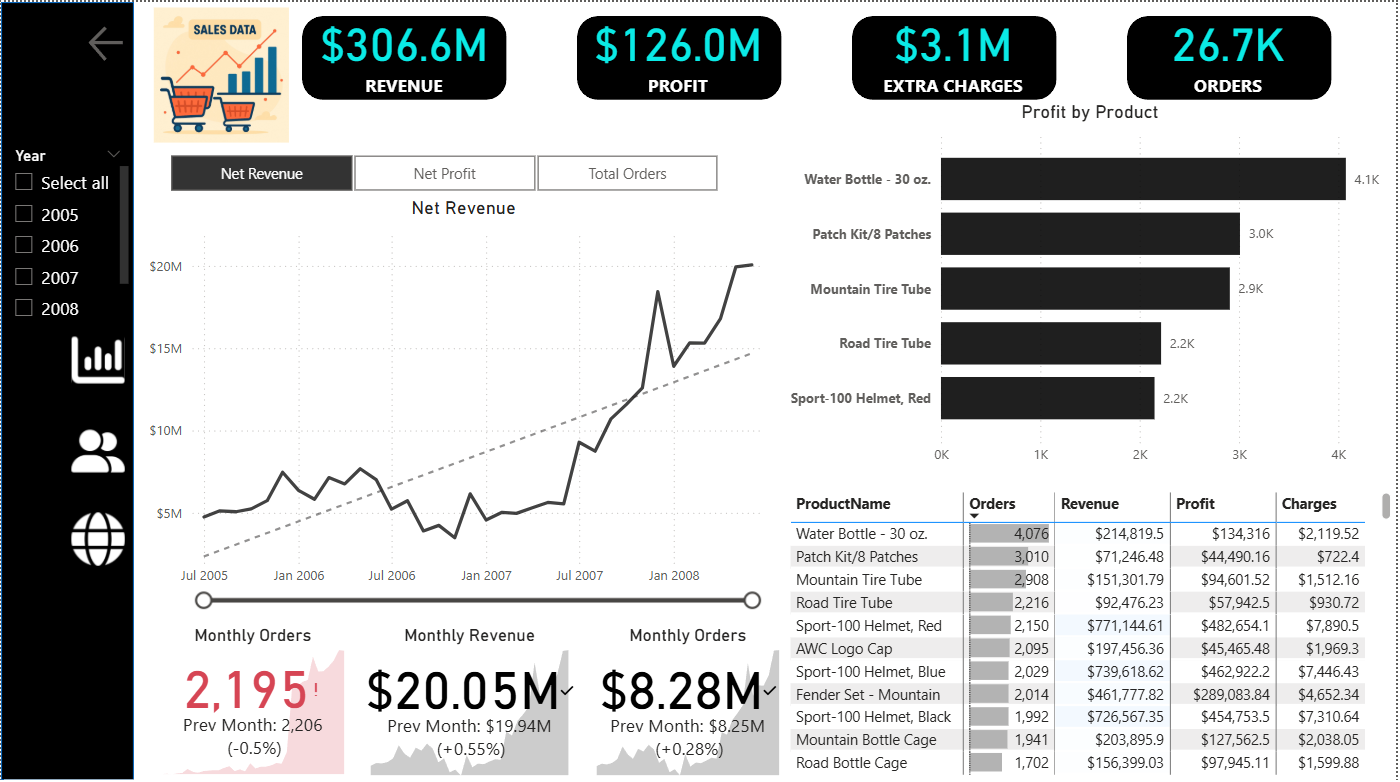

Layout of this report page (visuals, bound fields, positions):
{"tool":"powerbi","page":{"name":"DashBoard","canvas":[1280,720],"ordinal":0},"visuals":[{"type":"lineChart","fields":{"Y":["Measure.Net Revenue"],"Category":["Calender Lookup.Date hierarchy.Start of Year","Calender Lookup.Date hierarchy.Start of Month","Calender Lookup.Date hierarchy.Start of Week","Calender Lookup.Date hierarchy.FullDate"]},"box":[130,179.3,588.3,381.4],"z":0},{"type":"clusteredBarChart","title":"Profit by Product","fields":{"Category":["Product.EnglishProductName"],"Y":["Measure.Total Orders"]},"box":[718.3,91.1,561.7,342.5],"z":1000},{"type":"actionButton","box":[60.3,300.3,60.3,57],"z":2000,"group":"g1"},{"type":"shape","box":[781,12.7,188.5,77.3],"z":2000},{"type":"shape","box":[1033.3,12.7,188.5,77.3],"z":3000},{"type":"actionButton","box":[60.3,464.7,60.3,57],"z":3000,"group":"g1"},{"type":"shape","box":[528.7,12.7,188.5,77.3],"z":4000},{"type":"actionButton","box":[60.3,383.6,60.3,57],"z":4000,"group":"g1"},{"type":"shape","box":[276.3,12.7,188.5,77.3],"z":5000},{"type":"card","fields":{"Values":["Measure.Net Revenue"]},"box":[273.2,0,192.7,90],"z":6000},{"type":"card","fields":{"Values":["Measure.Net Profit"]},"box":[525.1,0,192.7,90],"z":7000},{"type":"card","fields":{"Values":["Measure.Total Orders"]},"box":[1029.1,0,192.7,90],"z":8000},{"type":"card","fields":{"Values":["Measure.Additional Charges"]},"box":[777.1,0,192.7,90],"z":9000},{"type":"kpi","title":"Monthly Orders","fields":{"TrendLine":["Calender Lookup.Start of Month"],"Indicator":["Measure.Total Orders"],"Goal":["Measure.Previous Month Orders"]},"box":[142,571.2,177.7,142],"z":10000},{"type":"tableEx","fields":{"Values":["Product.EnglishProductName","Measure.Total Orders","Measure.Net Revenue","Measure.Net Profit","Measure.Additional Charges"]},"box":[718.3,445,561.7,269.5],"z":11000},{"type":"shape","box":[0,0,122.5,714.2],"z":12000},{"type":"kpi","title":"Monthly Revenue","fields":{"TrendLine":["Calender Lookup.Start of Month"],"Indicator":["Measure.Net Revenue"],"Goal":["Measure.Previous Month Revenue"]},"box":[334.4,571.2,191.8,143.1],"z":13000},{"type":"kpi","title":"Monthly Orders","fields":{"TrendLine":["Calender Lookup.Start of Month"],"Indicator":["Measure.Net Profit"],"Goal":["Measure.Previous Month Net Profit"]},"box":[540.8,571.2,177.7,143.1],"z":14000},{"type":"slicer","fields":{"Values":["Parameter 2.Parameter"]},"box":[130,133.8,551.3,45.5],"z":15000},{"type":"image","box":[109.1,0,186.9,133.8],"z":16000},{"type":"actionButton","box":[76.2,17.2,46.2,41.7],"z":17000},{"type":"slicer","fields":{"Values":["Calender Lookup.Year"]},"box":[0,127.1,122.4,176.5],"z":18000},{"type":"group","id":"g1","title":"Nav","box":[60.3,300.3,60.3,221.4],"z":19000}]}

Visuals, with their boxes on the page's 1280x720 design canvas (x1, y1, x2, y2). These are canvas units, not pixel positions in the 1400x782 screenshot, which may show the page scaled, cropped or inside an application window:
lineChart - Measure.Net Revenue x Calender Lookup.Date hierarchy.Start of Year: BBox(130, 179, 718, 561)
"Profit by Product" clusteredBarChart: BBox(718, 91, 1280, 434)
actionButton: BBox(60, 300, 121, 357)
shape: BBox(781, 13, 970, 90)
shape: BBox(1033, 13, 1222, 90)
actionButton: BBox(60, 465, 121, 522)
shape: BBox(529, 13, 717, 90)
actionButton: BBox(60, 384, 121, 441)
shape: BBox(276, 13, 465, 90)
card - Measure.Net Revenue: BBox(273, 0, 466, 90)
card - Measure.Net Profit: BBox(525, 0, 718, 90)
card - Measure.Total Orders: BBox(1029, 0, 1222, 90)
card - Measure.Additional Charges: BBox(777, 0, 970, 90)
"Monthly Orders" kpi: BBox(142, 571, 320, 713)
tableEx - Product.EnglishProductName x Measure.Total Orders: BBox(718, 445, 1280, 714)
shape: BBox(0, 0, 122, 714)
"Monthly Revenue" kpi: BBox(334, 571, 526, 714)
"Monthly Orders" kpi: BBox(541, 571, 718, 714)
slicer - Parameter 2.Parameter: BBox(130, 134, 681, 179)
image: BBox(109, 0, 296, 134)
actionButton: BBox(76, 17, 122, 59)
slicer - Calender Lookup.Year: BBox(0, 127, 122, 304)
"Nav" group: BBox(60, 300, 121, 522)
